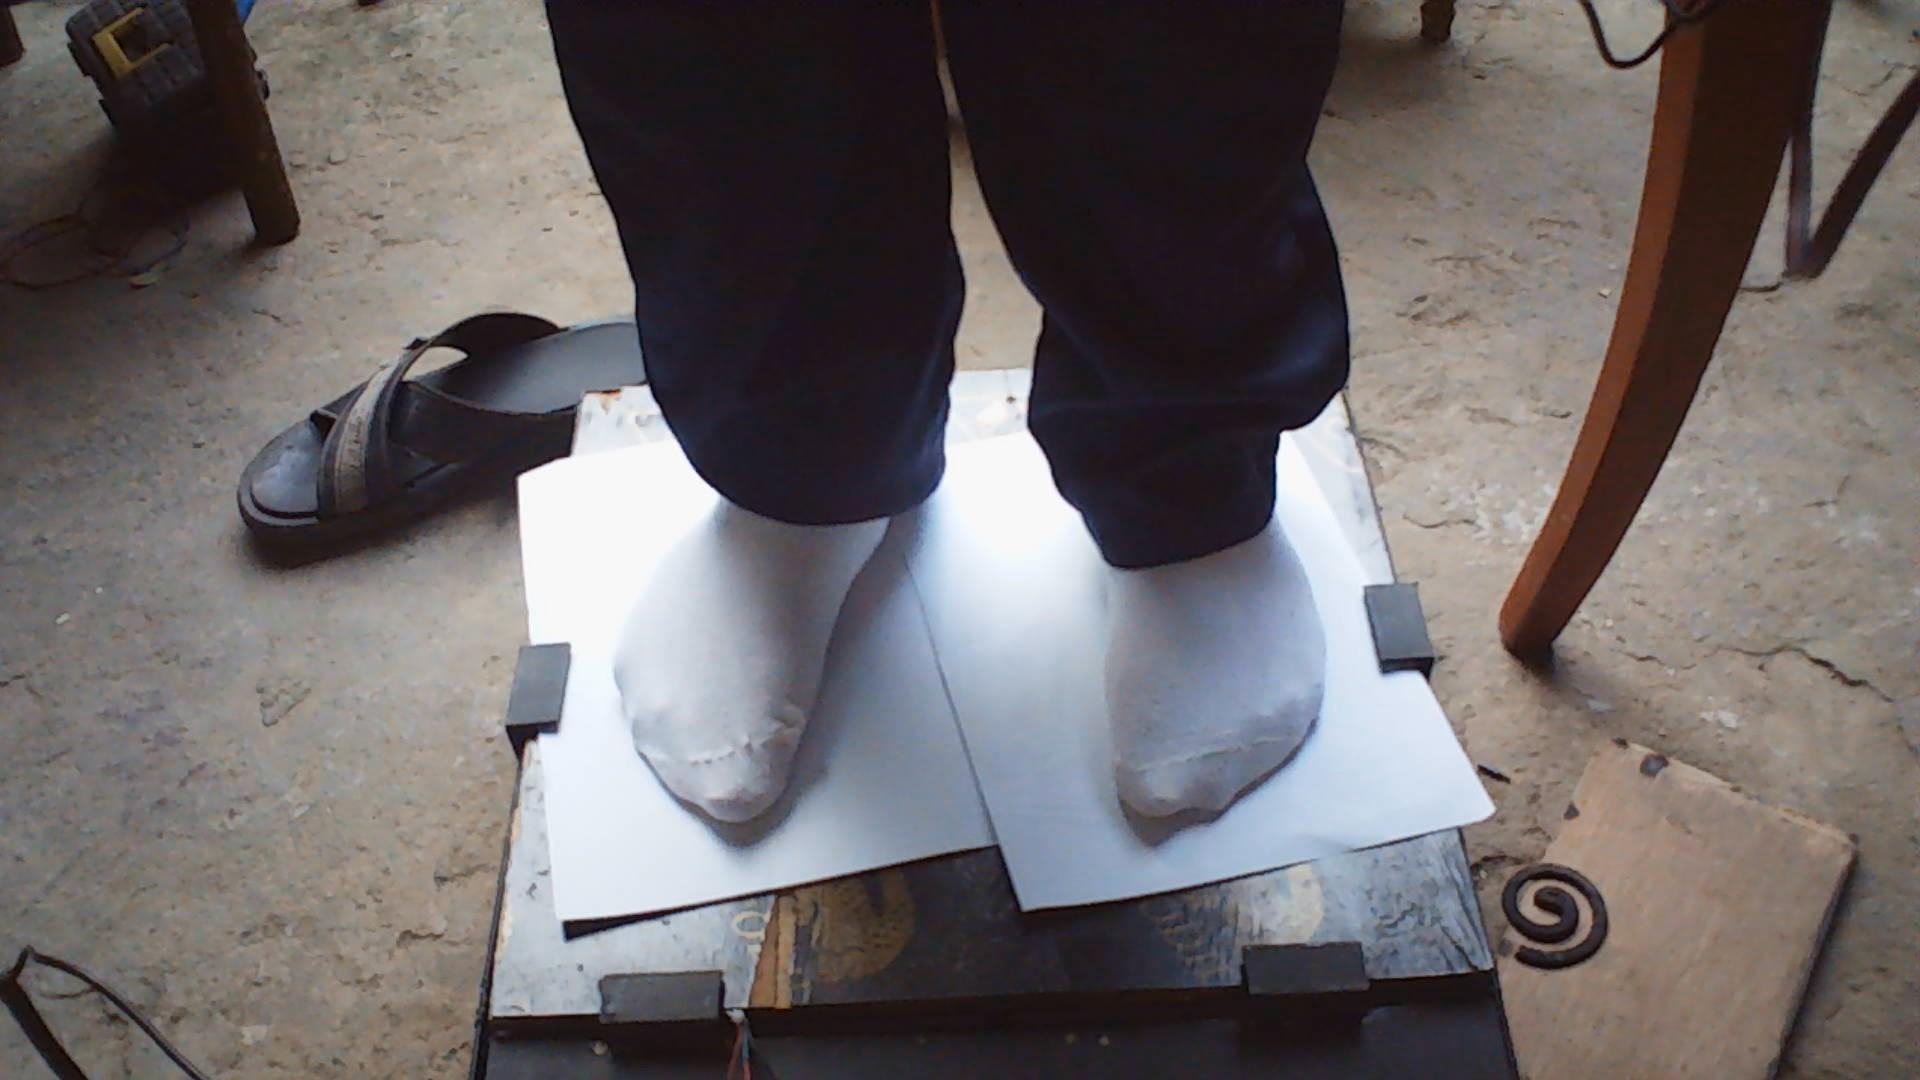white_socks: (600, 330, 982, 868), (1018, 320, 1370, 868)
